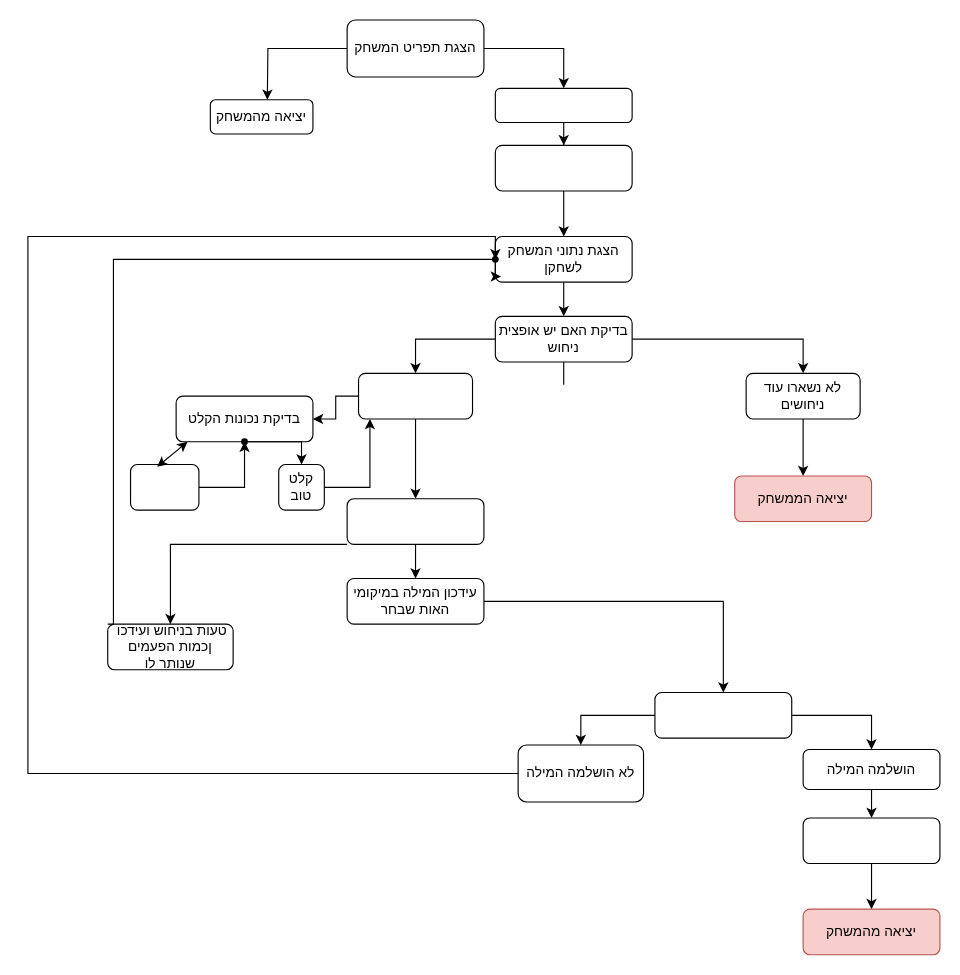
This 960x975 diagram has some shape labels left out. The shapes that lost their labels are listed below. From the top down, each one's centre as x and y in pixels, then its label:
At point 563,105: "בחירת מילה רנדומלית".
At point 563,167: "השחקן בוחר כמות ניחושים למשחק".
At point 415,395: "שלב ניחוש השחקן".
At point 164,486: "נכשל הקלט".
At point 415,521: "בדיקת הניחוש ביחס מילה".
At point 723,714: "בדיקה האם המילה הושלמה".
At point 871,840: "הצגת המילה למשתמש".
